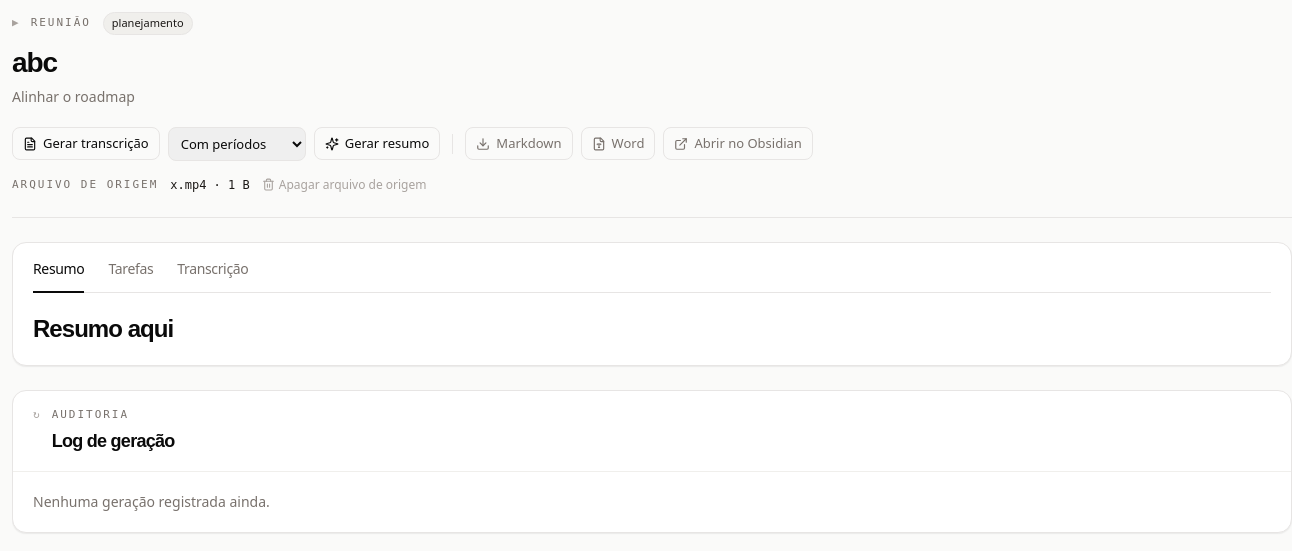
Scenario: MeetingDetail › shows summary by default and switches to transcript tab
Expected: the heading "Resumo aqui" is shown, [33,314,173,342]
Click the button "Transcrição": (213, 276) [177,258,248,292]
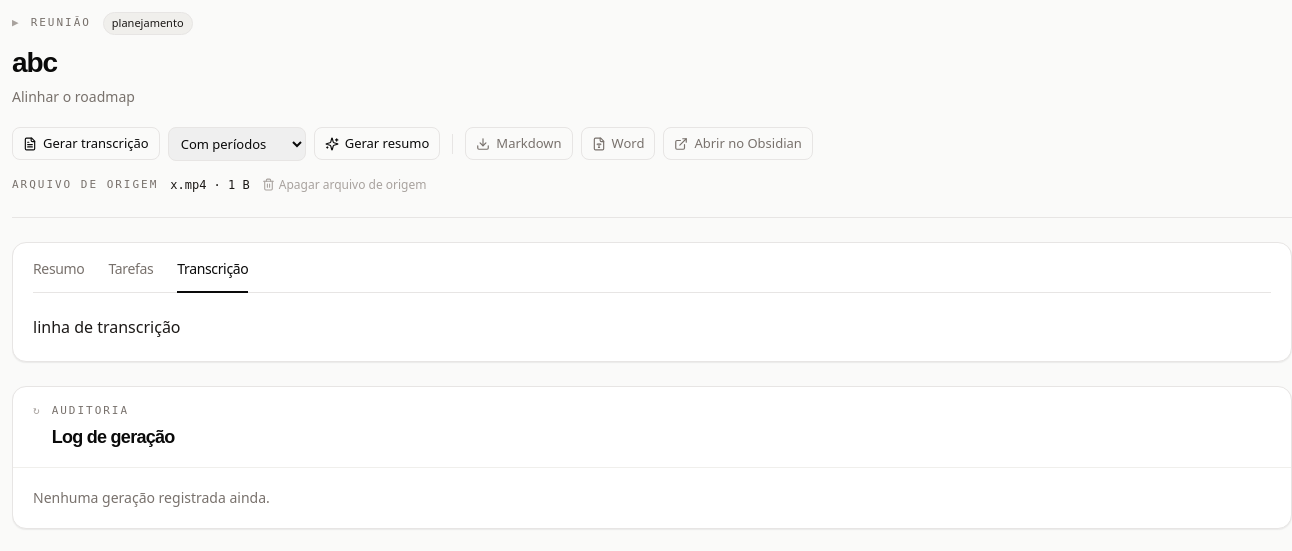
Now the text "linha de transcrição" is shown, box [33,316,180,338]
